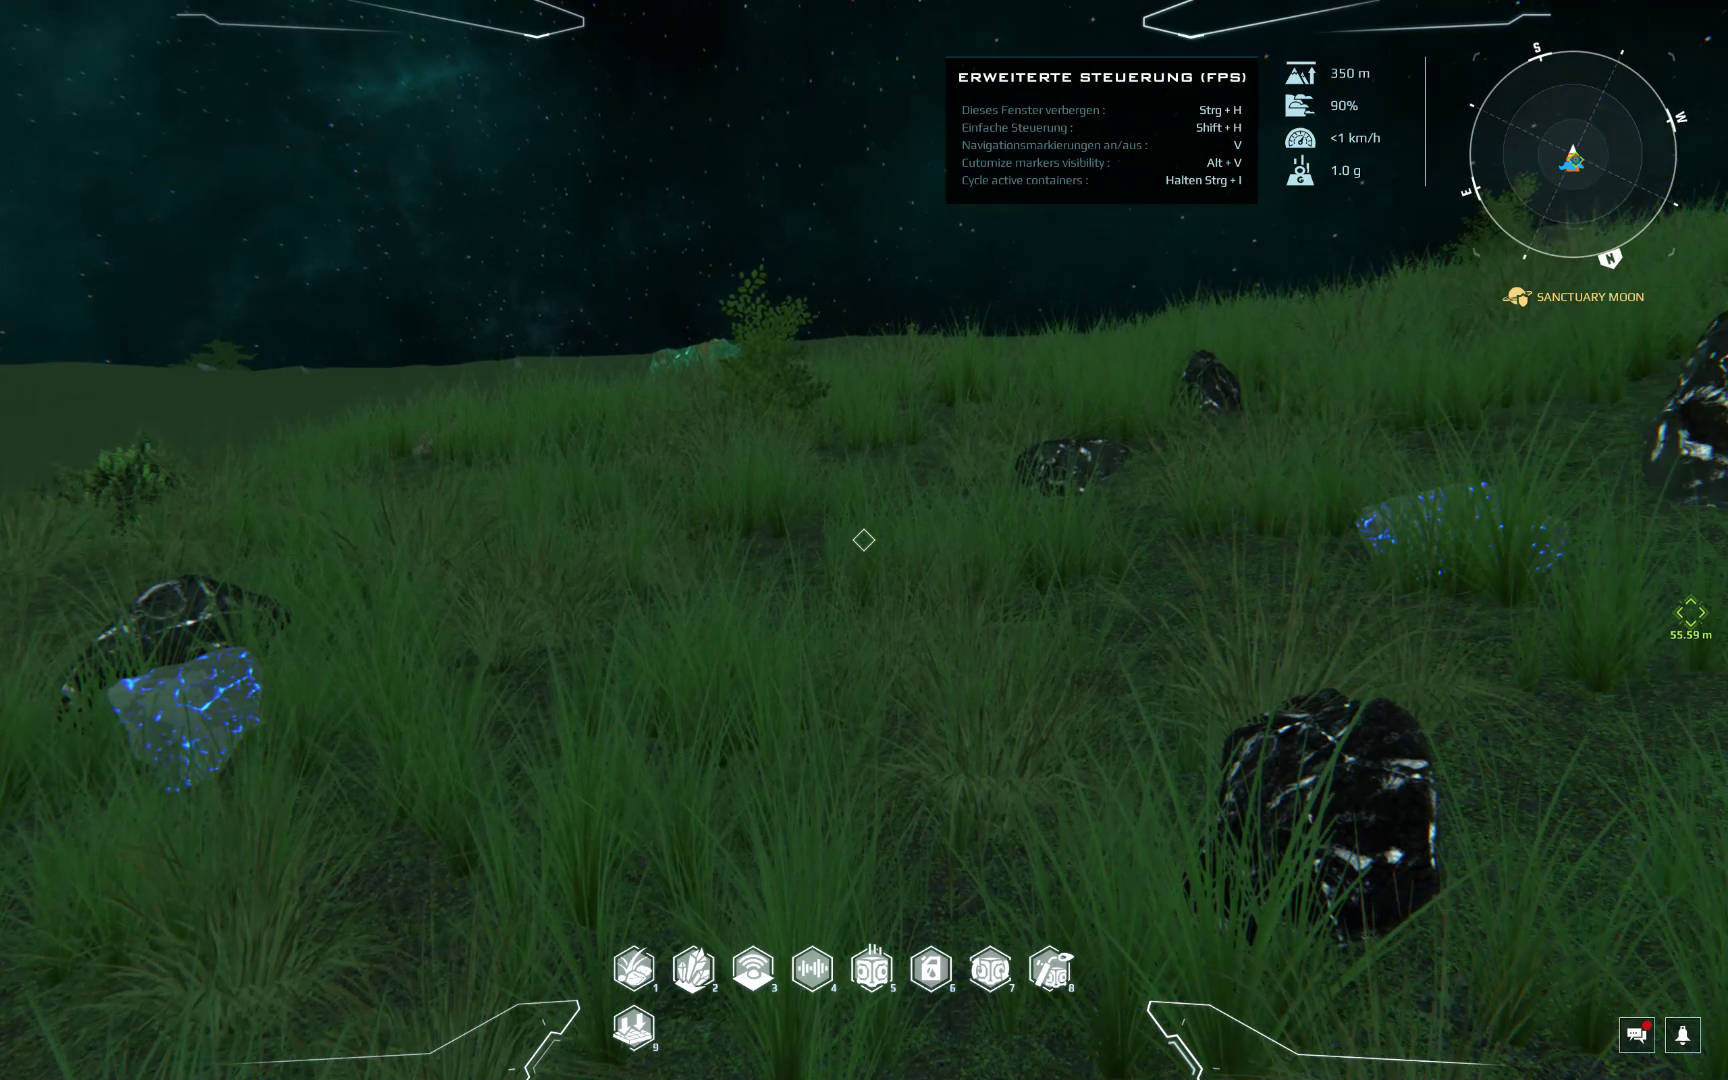Ore: (1213, 679, 1451, 934), (58, 572, 291, 723), (1354, 477, 1571, 608), (109, 641, 267, 803), (1642, 300, 1728, 515), (1011, 431, 1133, 496), (1174, 342, 1249, 421), (643, 333, 741, 383)
